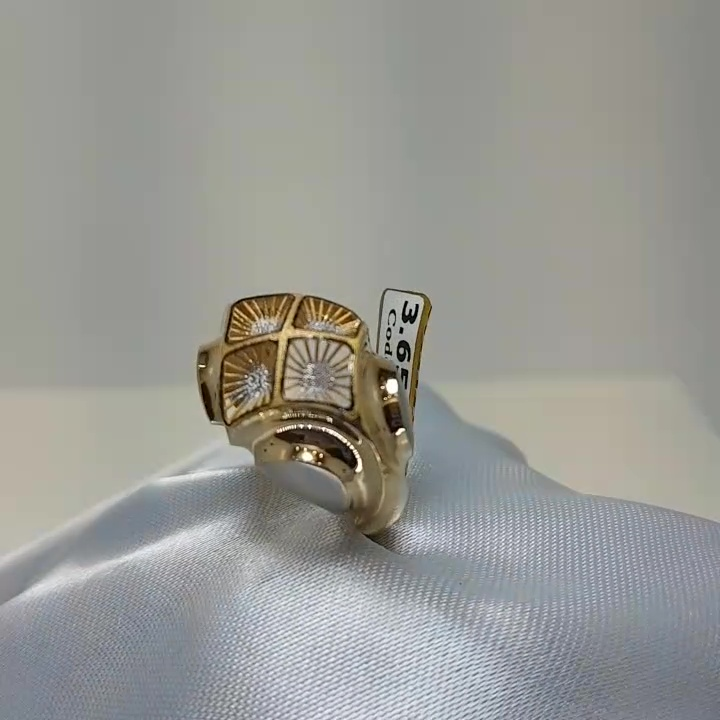Ring 2: (183, 274, 433, 539)
